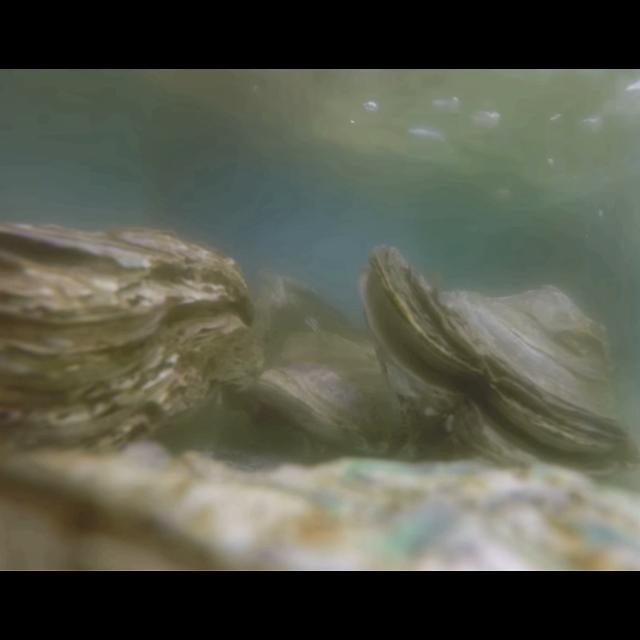Oyster-Closed: (0, 441, 640, 572), (1, 220, 256, 482), (258, 331, 418, 464)
Oyster-Open: (356, 244, 640, 491)
